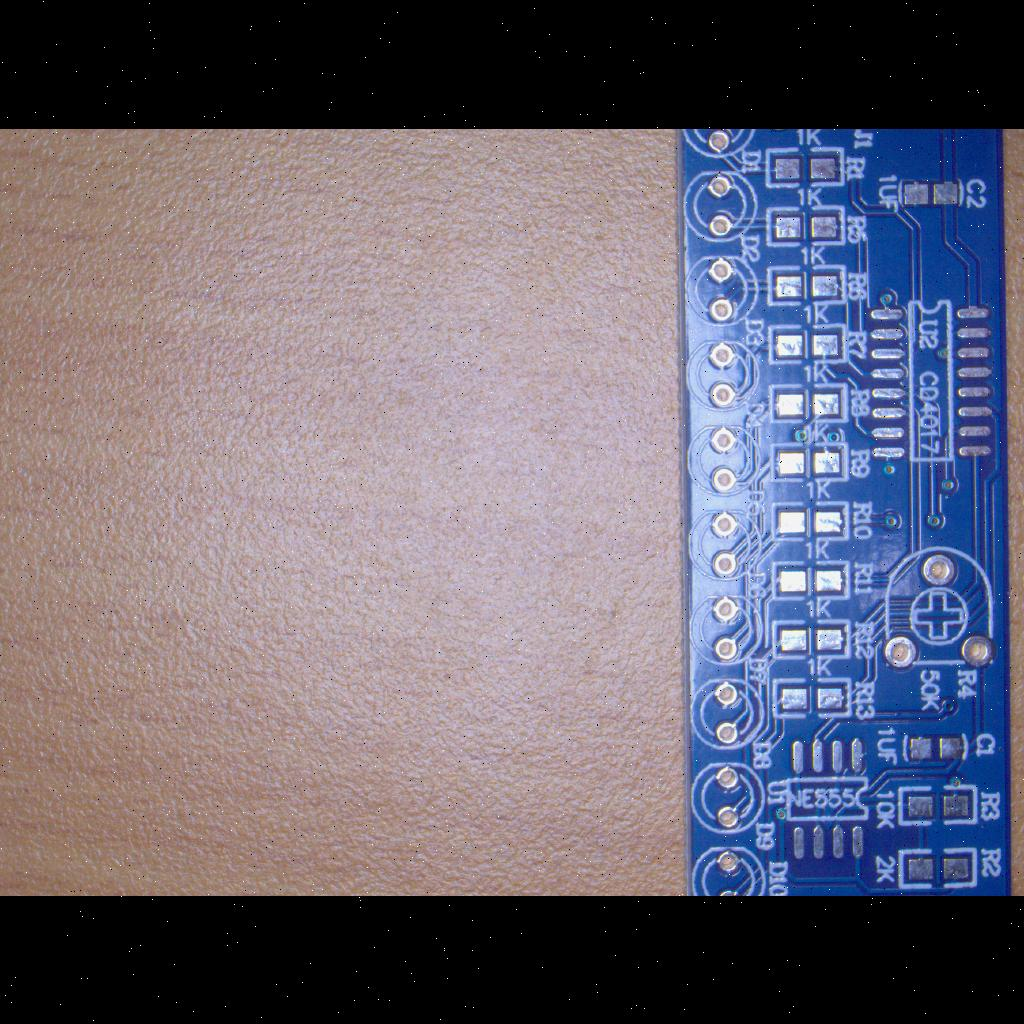NG: (862, 289, 996, 469), (785, 733, 875, 863), (764, 203, 850, 249), (766, 263, 850, 309), (766, 320, 850, 366), (769, 616, 853, 662), (766, 380, 852, 424), (768, 440, 854, 484), (763, 144, 847, 188), (772, 676, 856, 720), (896, 846, 980, 890), (770, 500, 852, 544), (896, 784, 980, 826), (770, 560, 852, 602), (896, 174, 968, 212), (899, 730, 971, 766)
